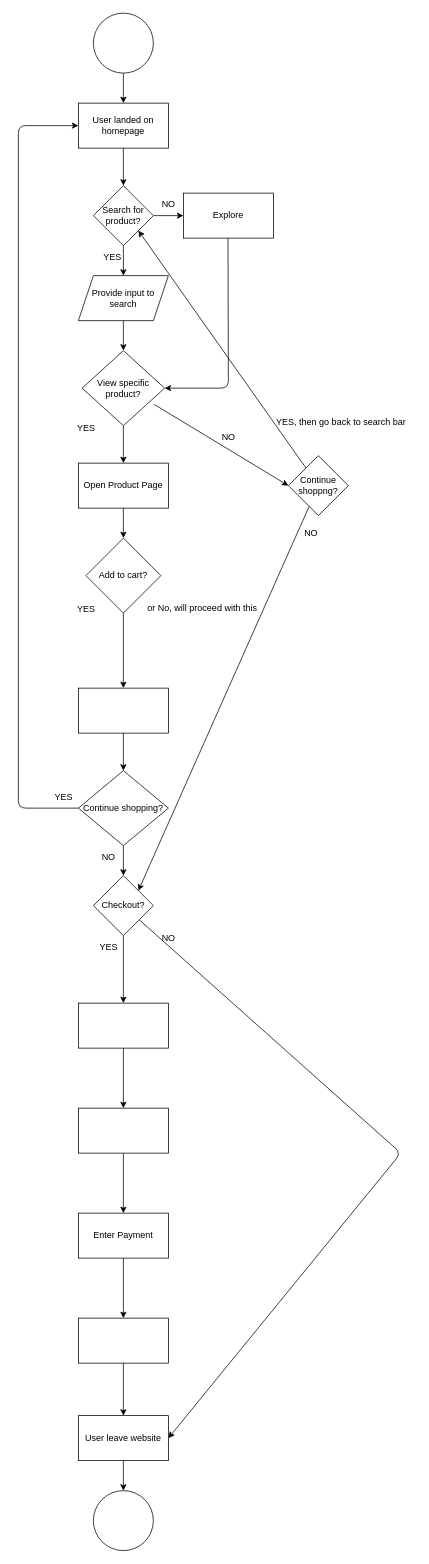
This 429x1564 diagram has some shape labels left out. Here are the shapes that lost their labels. From the top down, the centre of each, then its label:
At point (123, 42): "Start".
At point (123, 710): "Add to cart.".
At point (123, 1025): "View Cart".
At point (123, 1130): "View Payment".
At point (123, 1340): "Order Confirmation + Email receipt".
At point (123, 1520): "END.".
